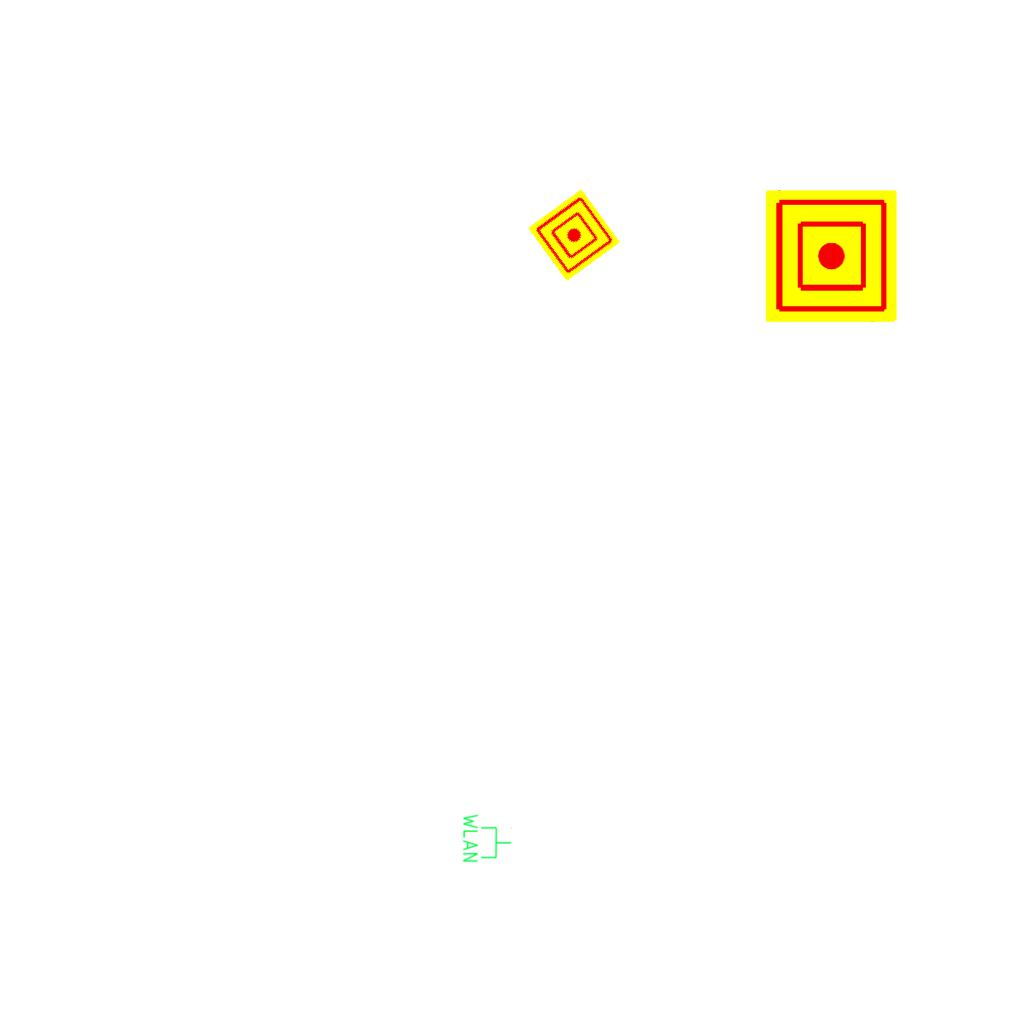NAM-Nichtautomatischer_Melder: (765, 190, 897, 322), (527, 188, 621, 282)
WLAN: (461, 812, 513, 864)
